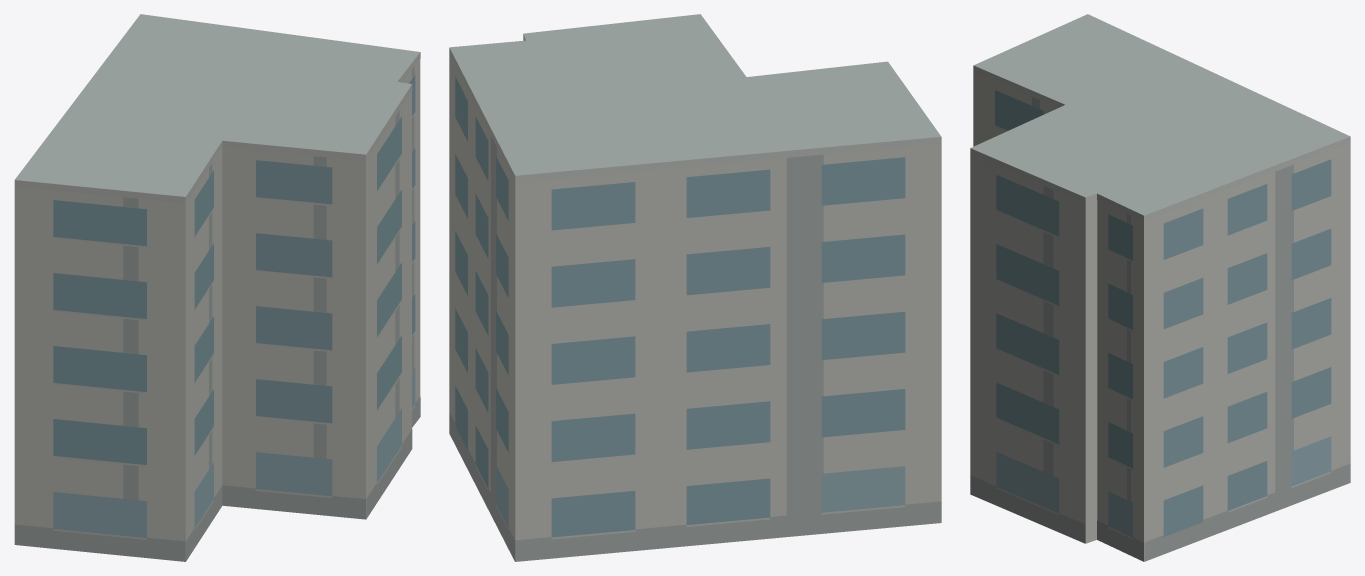
Rendered from survey-upis-32814434.glb.
3 renders of one model, left to right at view 1: azimuth 30°, elevation 25°; view 2: azimuth 150°, elevation 25°; view 3: azimuth 270°, elevation 25°, orthographic. The views are drawn at different scales.
Visible parts, largest first — view 1: survey-upis-32814434.tmp; view 2: survey-upis-32814434.tmp; view 3: survey-upis-32814434.tmp.
Boxes of the visible parts, x1=… form: survey-upis-32814434.tmp: x1=14, y1=14, x2=420, y2=561; survey-upis-32814434.tmp: x1=449, y1=14, x2=941, y2=561; survey-upis-32814434.tmp: x1=970, y1=14, x2=1350, y2=561.
Bounding box in the file's own units: 16.83 × 13.47 × 13.42.
